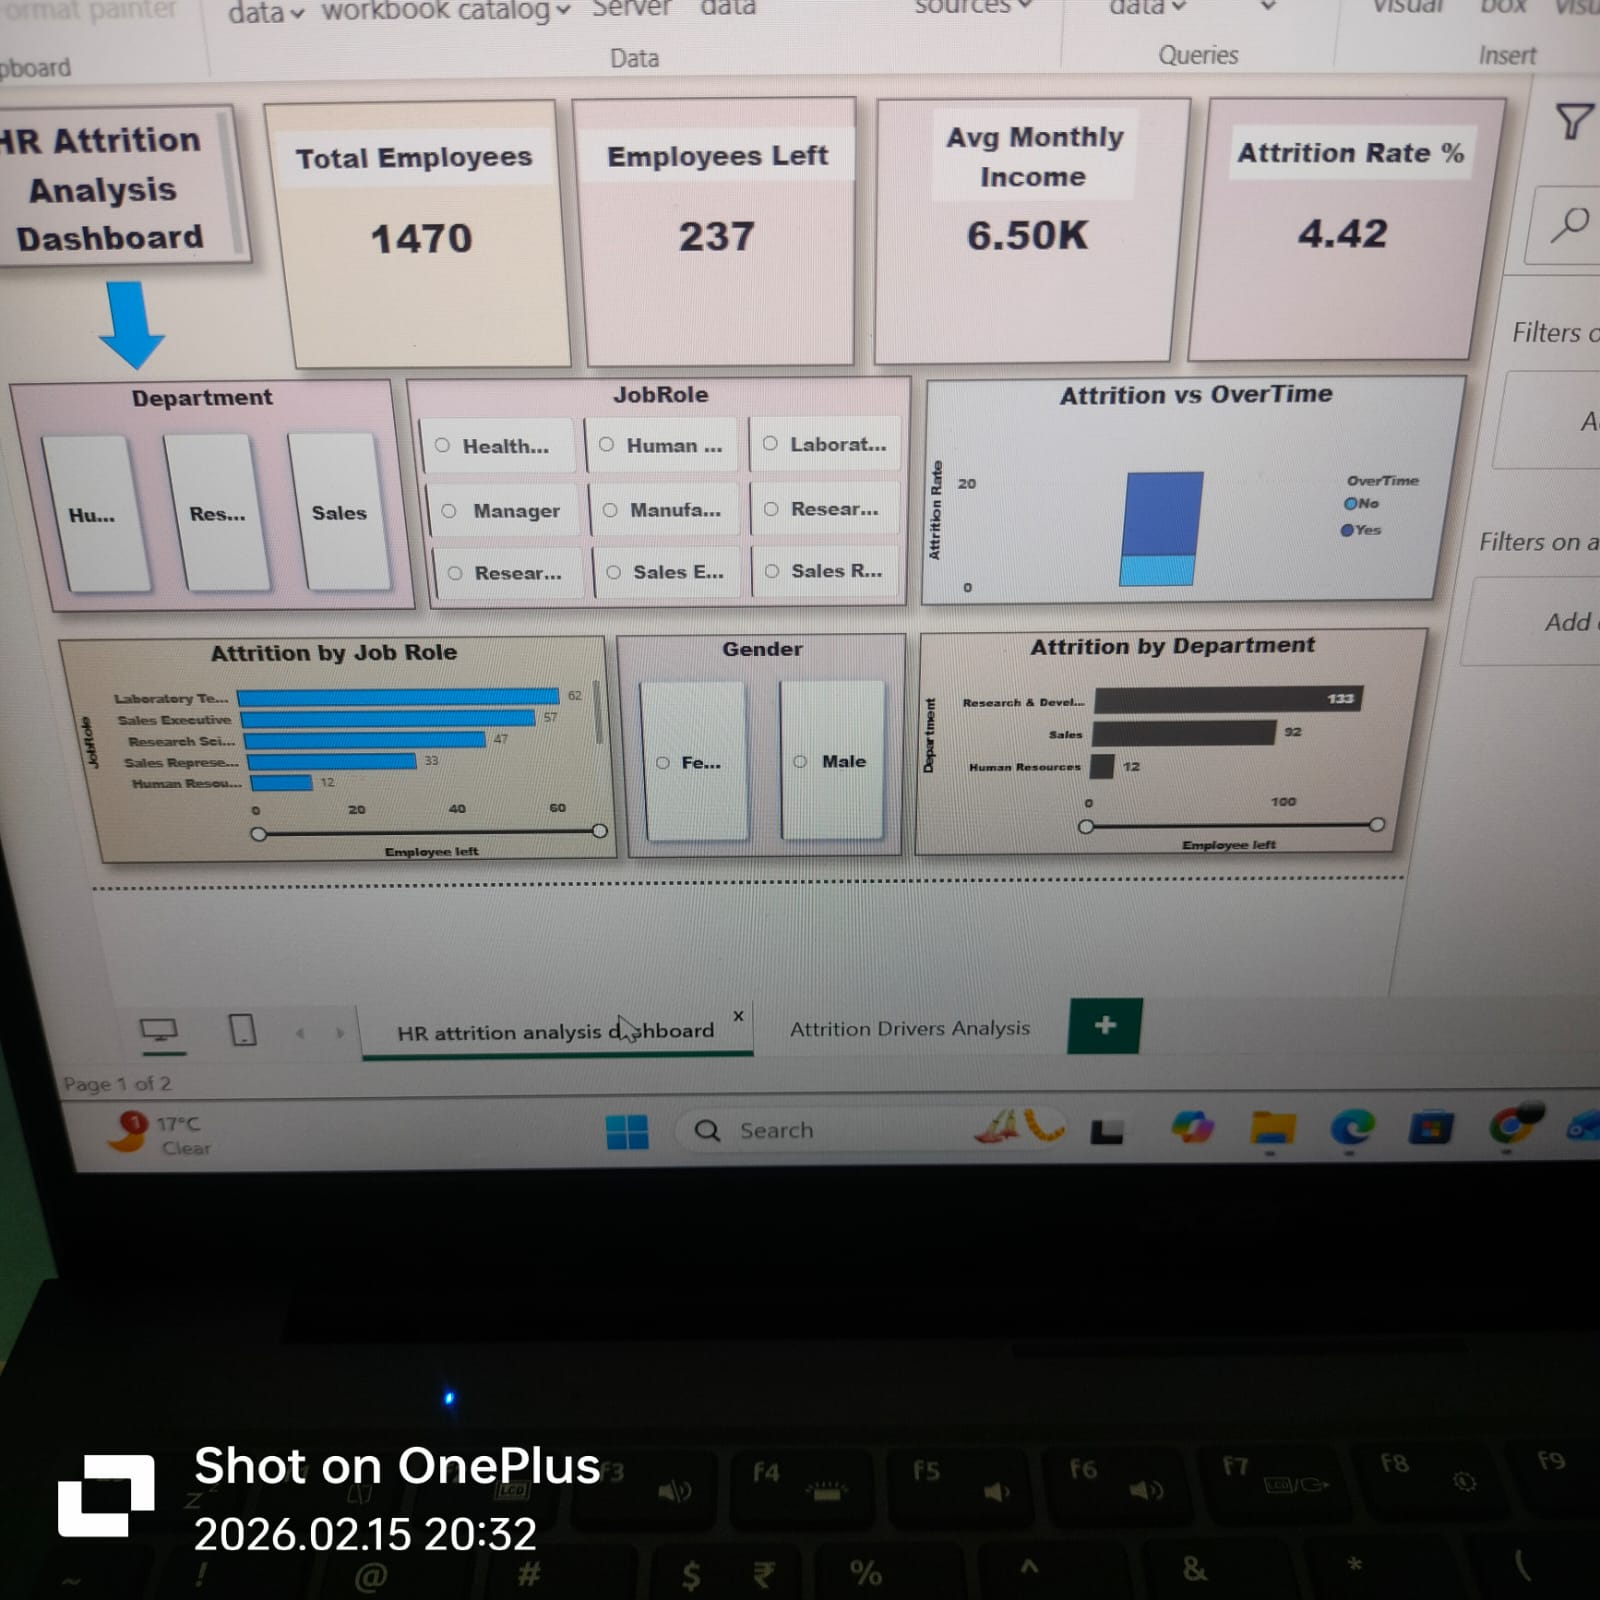

This screenshot's page, from the dashboard's own definition file:
{"tool":"powerbi","page":{"name":"HR attrition analysis dashboard","canvas":[1280,720],"ordinal":0},"visuals":[{"type":"card","fields":{"Values":["ibm-HR-Employee-Attrition.Average Monthly income"]},"box":[755.9,18.9,251.3,207.9],"z":0},{"type":"card","fields":{"Values":["ibm-HR-Employee-Attrition.Employee left"]},"box":[512.1,17,226.8,209.8],"z":1000},{"type":"card","fields":{"Values":["ibm-HR-Employee-Attrition.Total Employees 1"]},"box":[264.6,17,234.3,209.8],"z":2000},{"type":"card","fields":{"Values":["ibm-HR-Employee-Attrition.Measure 2"]},"box":[1022.4,18.9,240,207.9],"z":3000},{"type":"textbox","box":[17,17,223,122.8],"z":4000},{"type":"textbox","box":[270.2,37.8,223,43.5],"z":5000},{"type":"textbox","box":[515.9,39.7,223,39.7],"z":6000},{"type":"textbox","box":[801.3,26.5,164.4,69.9],"z":7000},{"type":"textbox","box":[1043.2,39.7,198.4,41.6],"z":8000},{"type":"barChart","title":"Attrition by Department","fields":{"Category":["ibm-HR-Employee-Attrition.Department"],"Y":["ibm-HR-Employee-Attrition.Employee left"]},"box":[801.3,466.8,461.1,226.8],"z":9000},{"type":"barChart","title":"Attrition by Job Role","fields":{"Category":["ibm-HR-Employee-Attrition.JobRole"],"Y":["ibm-HR-Employee-Attrition.Employee left"]},"box":[17,466.8,495.1,226.8],"z":10000},{"type":"columnChart","title":"Attrition vs OverTime","fields":{"Series":["ibm-HR-Employee-Attrition.OverTime"],"Y":["ibm-HR-Employee-Attrition.Attrition Rate"]},"box":[801.3,240,461.1,200.3],"z":11000},{"type":"advancedSlicerVisual","fields":{"Values":["ibm-HR-Employee-Attrition.Department"]},"box":[17,236.2,326.9,204.1],"z":12000},{"type":"advancedSlicerVisual","fields":{"Values":["ibm-HR-Employee-Attrition.Gender"]},"box":[523.5,466.8,264.6,226.8],"z":13000},{"type":"advancedSlicerVisual","fields":{"Values":["ibm-HR-Employee-Attrition.JobRole"]},"box":[357.2,236.2,430.9,204.1],"z":14000},{"type":"shape","box":[100.2,153.1,58.6,73.7],"z":15000}]}

Visuals, with their boxes on the page's 1280x720 design canvas (x1, y1, x2, y2). These are canvas units, not pixel positions in the 1600x1600 screenshot, which may show the page scaled, cropped or inside an application window:
card - ibm-HR-Employee-Attrition.Average Monthly income: box(756, 19, 1007, 227)
card - ibm-HR-Employee-Attrition.Employee left: box(512, 17, 739, 227)
card - ibm-HR-Employee-Attrition.Total Employees 1: box(265, 17, 499, 227)
card - ibm-HR-Employee-Attrition.Measure 2: box(1022, 19, 1262, 227)
textbox: box(17, 17, 240, 140)
textbox: box(270, 38, 493, 81)
textbox: box(516, 40, 739, 79)
textbox: box(801, 26, 966, 96)
textbox: box(1043, 40, 1242, 81)
"Attrition by Department" barChart: box(801, 467, 1262, 694)
"Attrition by Job Role" barChart: box(17, 467, 512, 694)
"Attrition vs OverTime" columnChart: box(801, 240, 1262, 440)
advancedSlicerVisual - ibm-HR-Employee-Attrition.Department: box(17, 236, 344, 440)
advancedSlicerVisual - ibm-HR-Employee-Attrition.Gender: box(524, 467, 788, 694)
advancedSlicerVisual - ibm-HR-Employee-Attrition.JobRole: box(357, 236, 788, 440)
shape: box(100, 153, 159, 227)
